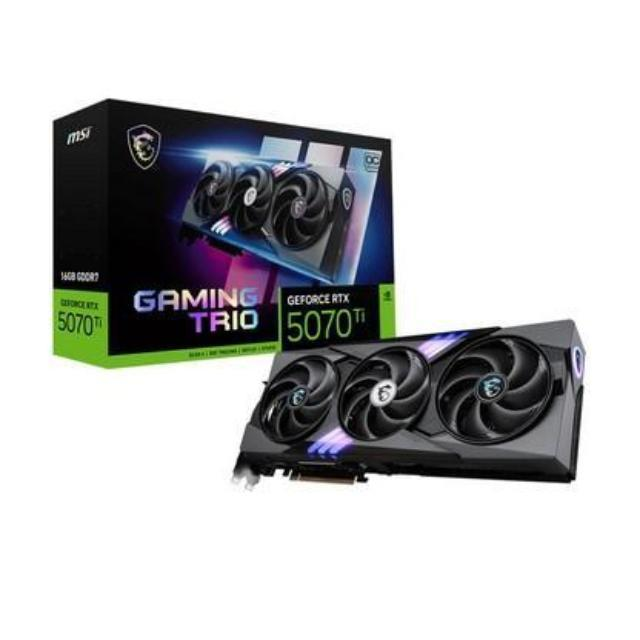GPU: (235, 312, 594, 490)
